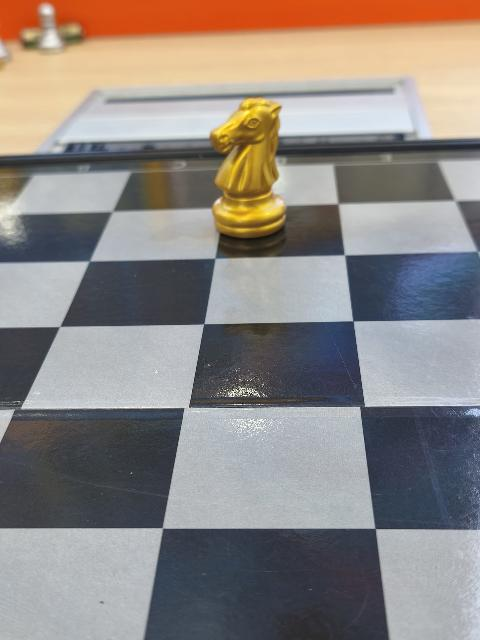black_knight: (211, 97, 288, 240)
